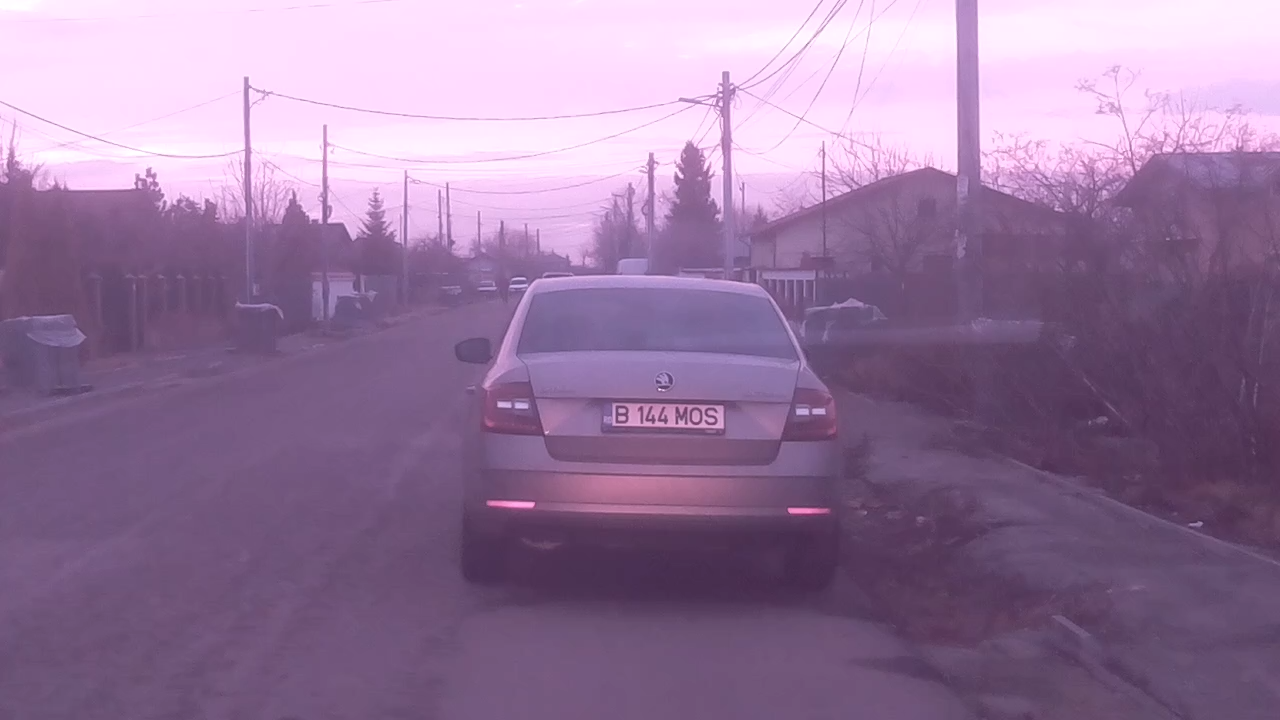license-plate: (602, 398, 727, 432)
